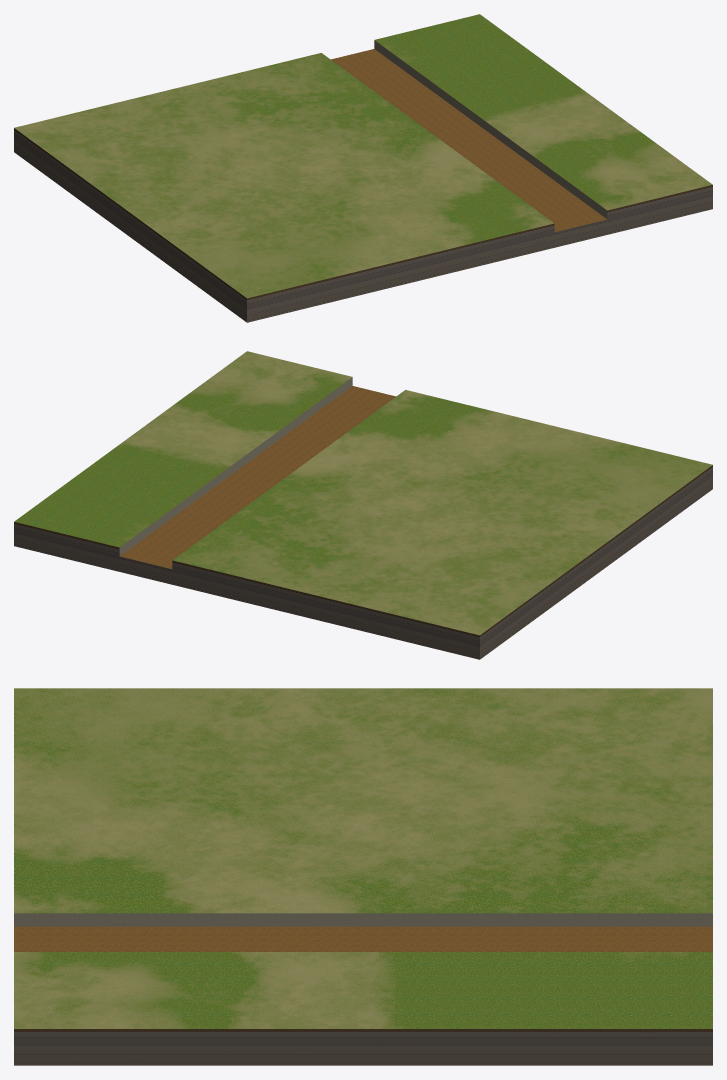
The model's file is 01_Terreno.glb.
3 renders of one model, top to bottom at view 1: azimuth 30°, elevation 25°; view 2: azimuth 150°, elevation 25°; view 3: azimuth 270°, elevation 25°, orthographic. The views are drawn at different scales.
Parts seen in each view (by area): view 1: Terreno_Base; view 2: Terreno_Base; view 3: Terreno_Base.
Part boxes in pixels (x1,y1,x2,y2): Terreno_Base: (14, 14, 712, 322); Terreno_Base: (14, 351, 712, 659); Terreno_Base: (14, 688, 712, 1065).
Size of the model in its own units: 600 by 30 by 520.
4 materials, 4 textured.
